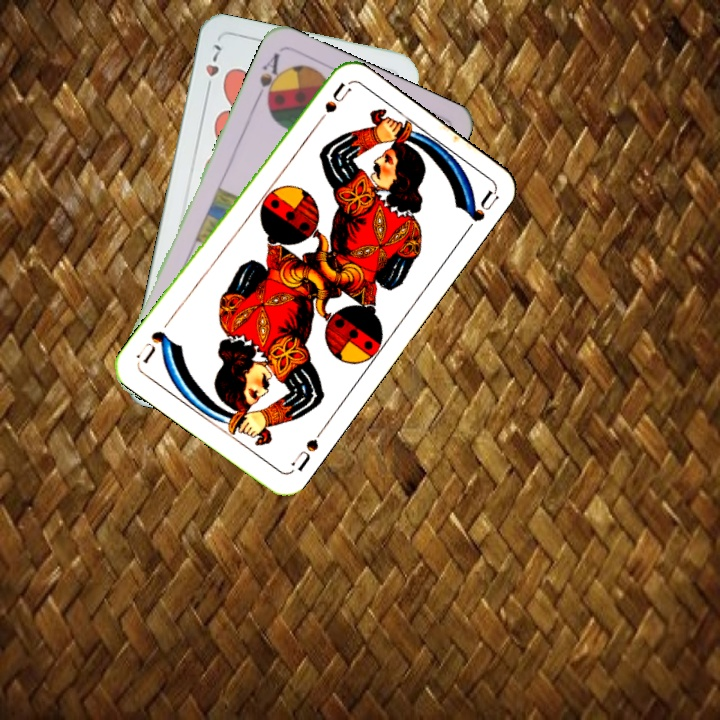H7: (201, 40, 224, 96)
SA: (251, 49, 286, 107)
SU: (309, 79, 352, 132), (287, 435, 322, 474)
